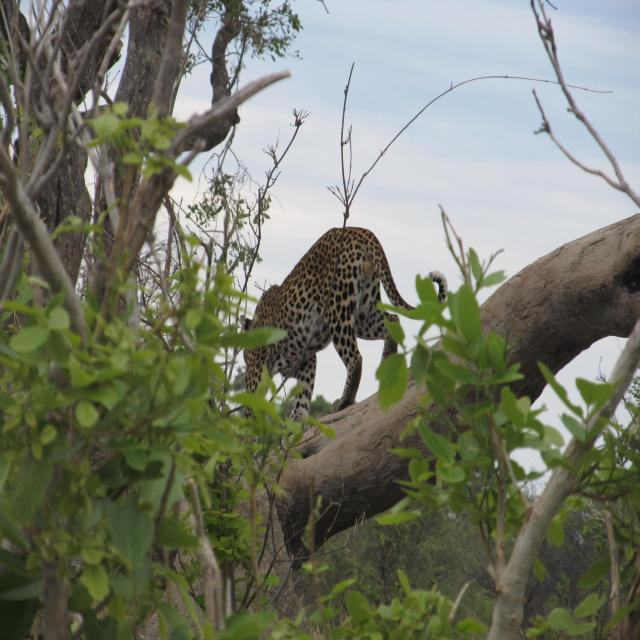Leopard: (230, 194, 442, 436)
